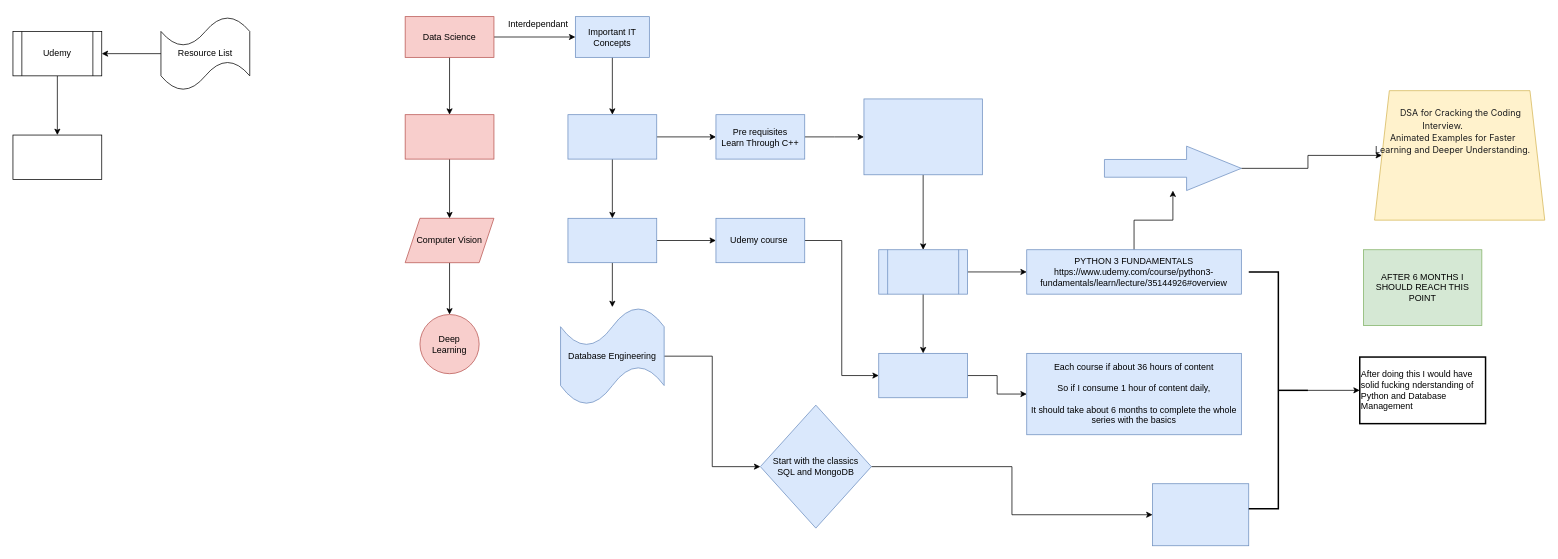
The diagram is 1558 pixels wide and 559 high, and some of its shapes have lost their labels. The shapes that lost their labels are listed below. From the top down, each one's box as (x1, y1, x2, y2) in pixels, then its label:
(404, 114, 494, 159): Data Science Arithmetic
(567, 114, 657, 159): Data Structures and Algorithms
(863, 98, 982, 175): Python or C++? Which is more closer to your target goal? PYTHON!!
(1104, 145, 1241, 191): After completing this course
(567, 218, 657, 263): Core Python
(878, 249, 968, 294): Start with this course
(878, 353, 968, 398): Deep Dive into Python Part 1 - 4 in order
(1152, 483, 1249, 546): Should take around 22 hours to complete That means 22 days
